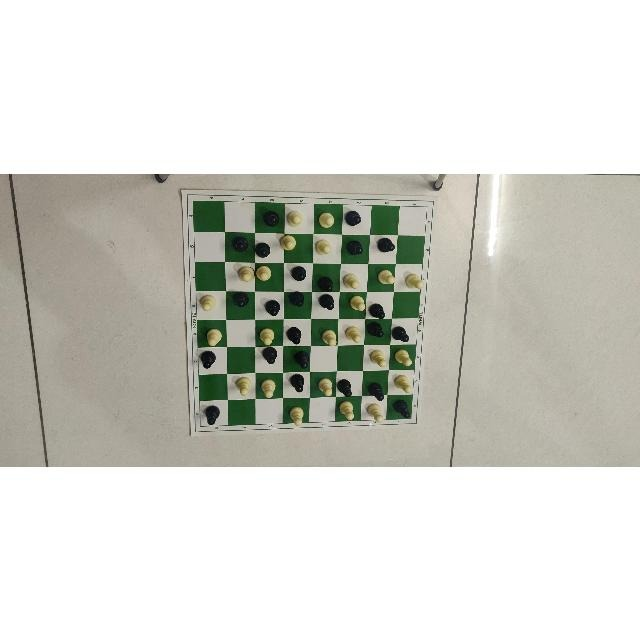black-pawn: (195, 347, 219, 373), (335, 373, 361, 397), (313, 268, 338, 292), (391, 396, 416, 420), (365, 374, 386, 401), (203, 403, 226, 427), (261, 291, 281, 318), (284, 324, 307, 346), (283, 372, 306, 394), (364, 318, 386, 341), (291, 348, 315, 369), (375, 232, 395, 257), (343, 235, 364, 258), (230, 232, 250, 256), (254, 236, 274, 260), (389, 324, 415, 342), (313, 293, 336, 313), (287, 263, 309, 283), (230, 285, 249, 308), (368, 298, 388, 319), (257, 347, 280, 365), (343, 207, 364, 226), (262, 206, 280, 227), (288, 288, 305, 310)
white-pawn: (200, 323, 226, 349), (313, 204, 339, 228), (399, 267, 426, 290), (285, 401, 309, 426), (392, 345, 418, 367), (283, 205, 306, 229), (333, 399, 357, 422), (340, 269, 365, 291), (310, 235, 333, 258), (195, 288, 217, 312), (232, 374, 254, 398), (366, 346, 390, 368), (317, 325, 338, 350), (275, 229, 298, 251), (364, 402, 386, 425), (393, 371, 416, 393), (312, 375, 333, 399), (260, 374, 280, 399), (374, 267, 396, 289), (254, 325, 279, 344), (344, 322, 364, 345), (235, 261, 255, 284), (344, 293, 366, 313), (256, 264, 274, 284)
